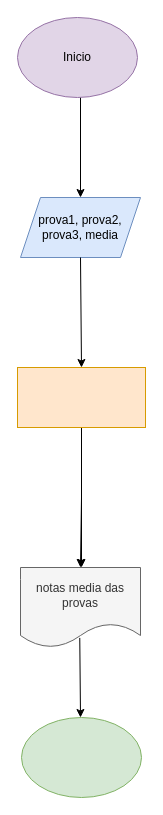
Some shapes in this 163 by 815 pixel diagram are drawn without their labels. The shapes that lost their labels are listed below. From the top down, each one's centre as x and y in pixels, then its label:
point (81, 397): media= (prova1+prova2+ prova3)/3
point (81, 757): Fim
